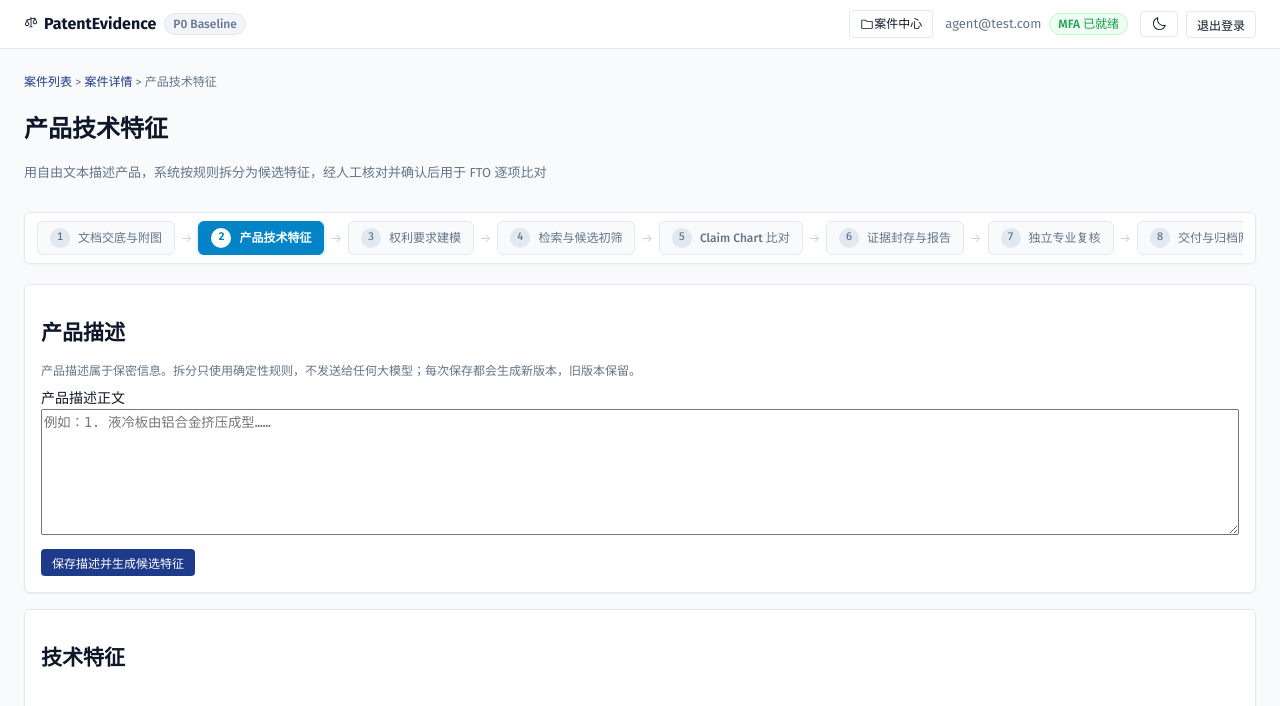
Product features workbench (ADR 0010) › saves the description and shows the generated candidates with warnings
Type "1. 液冷板由铝合金挤压成型。" into the text box labelled "产品描述正文" at (640, 472), box [41,409,1239,535]
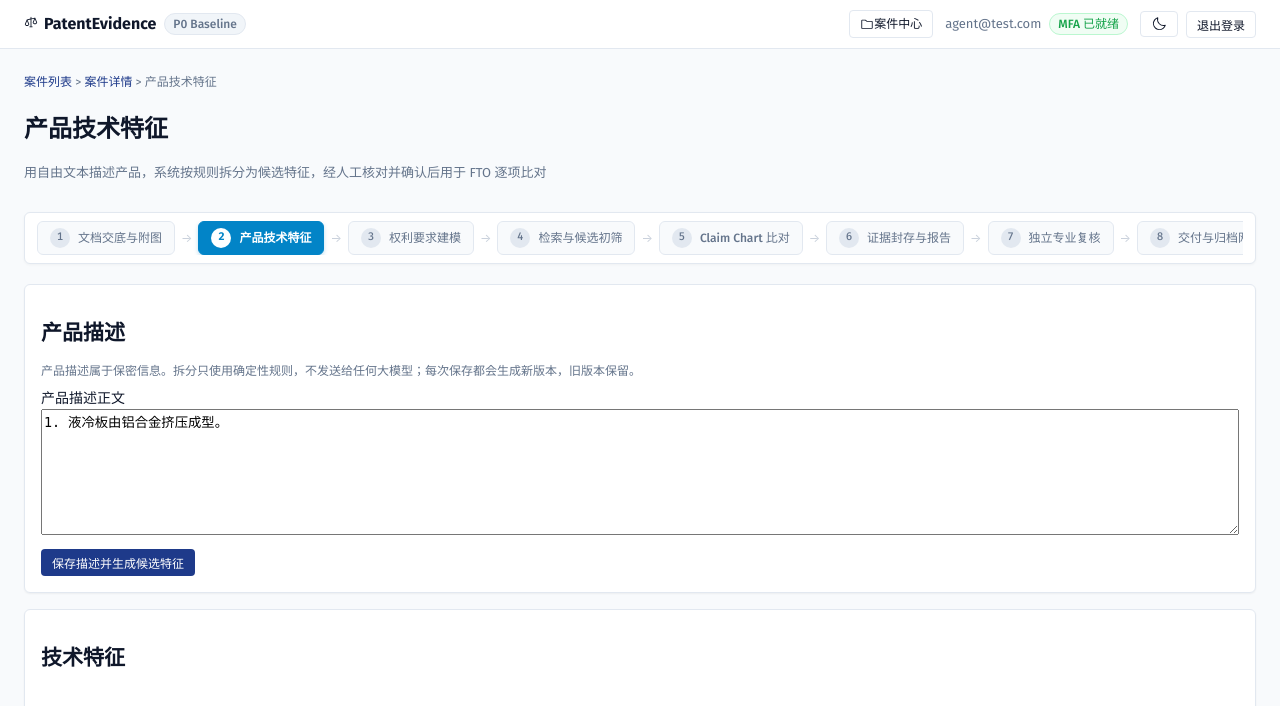
Click the button "保存描述并生成候选特征" at (118, 562), box [41,549,195,576]
(page scrolled)
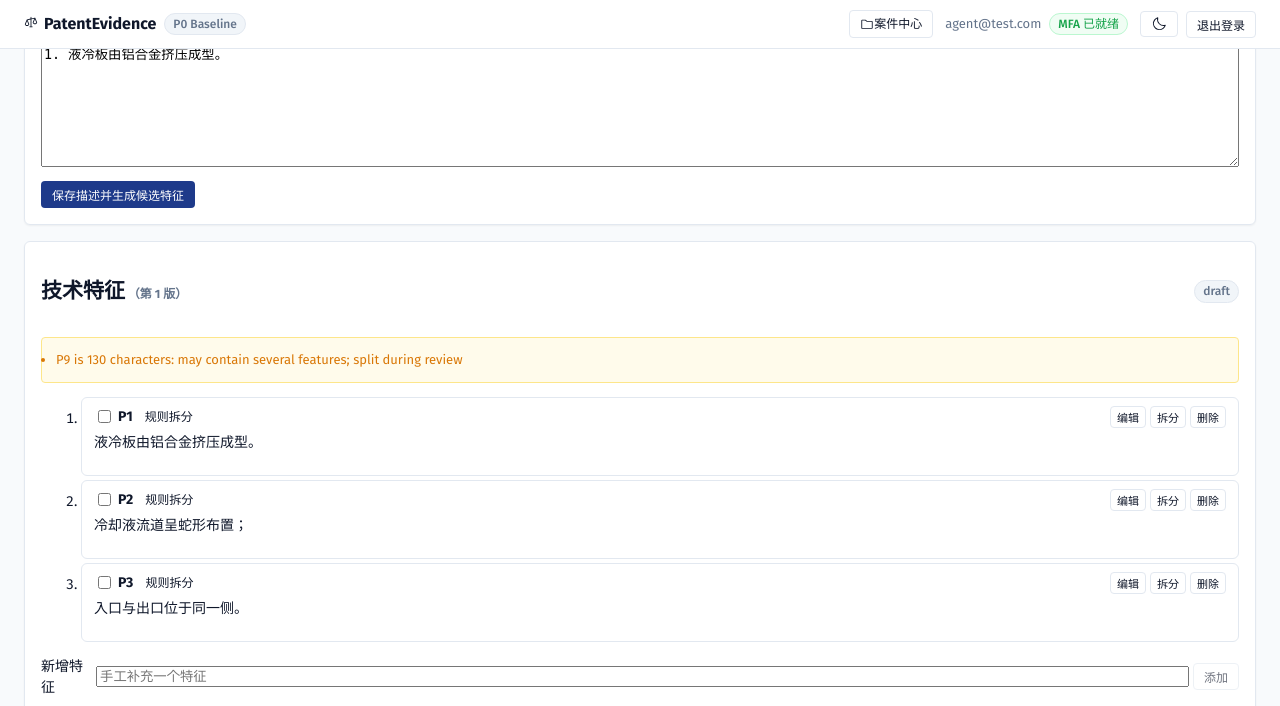
Expected: the list item with test id "feature-P1" is shown, [81,397,1239,476]
Expected: the list named "拆分提示" shows "split during review", [56,352,462,367]
